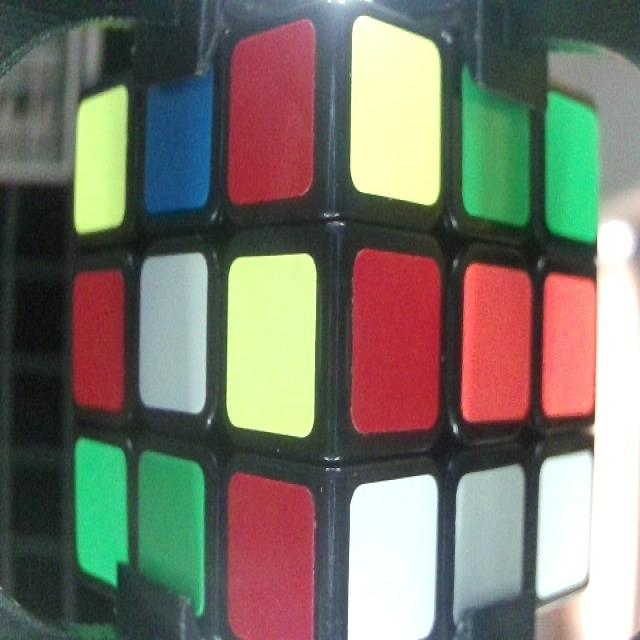b: (148, 78, 208, 209)
g: (464, 68, 532, 226), (138, 454, 204, 614), (74, 440, 128, 578), (547, 96, 598, 235)
o: (468, 272, 532, 423), (546, 277, 598, 420)
r: (353, 249, 435, 435), (230, 476, 311, 640), (232, 34, 310, 200), (73, 274, 121, 410)
w: (350, 490, 434, 640), (143, 260, 207, 412), (458, 474, 524, 616), (540, 459, 588, 592)
y: (228, 256, 316, 434), (352, 20, 438, 200), (76, 102, 122, 230)
